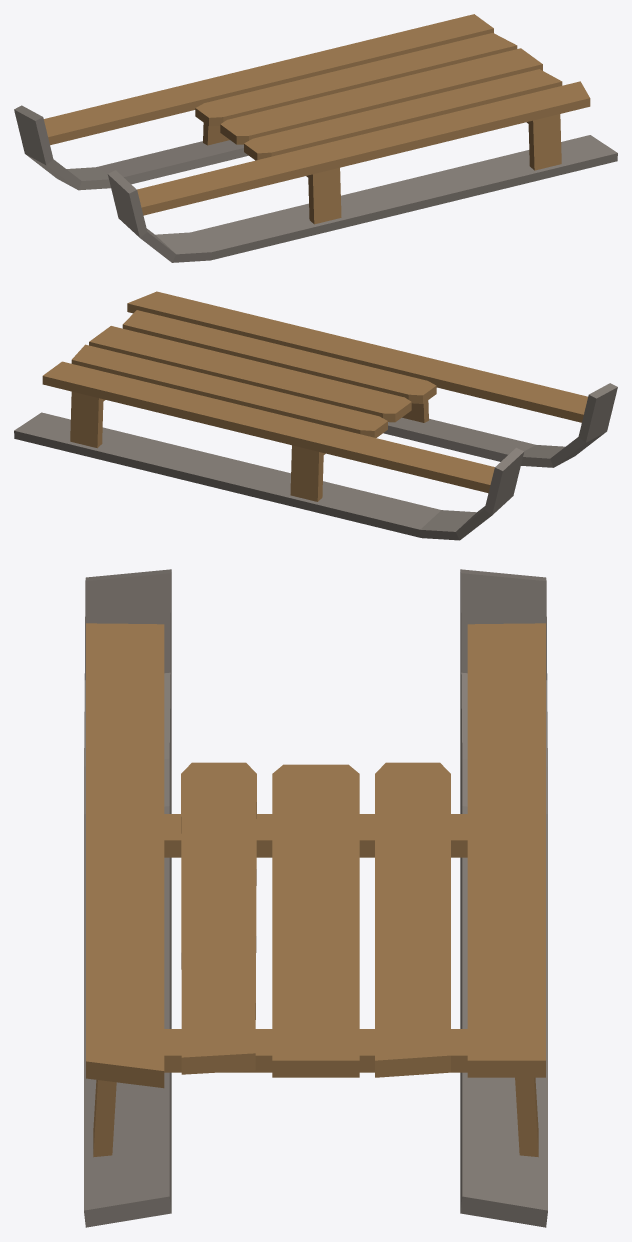
File: sledge_01.fbx
3 renders of one model, top to bottom at view 1: azimuth 30°, elevation 25°; view 2: azimuth 150°, elevation 25°; view 3: azimuth 270°, elevation 25°, orthographic. The views are drawn at different scales.
Visible parts, largest first — view 1: sledge_01; view 2: sledge_01; view 3: sledge_01.
Part boxes in pixels (x1,y1,x2,y2): sledge_01: (14,14,617,262); sledge_01: (14,291,617,540); sledge_01: (84,569,547,1227).
Size of the model in its own units: 245 by 44.5 by 101.
